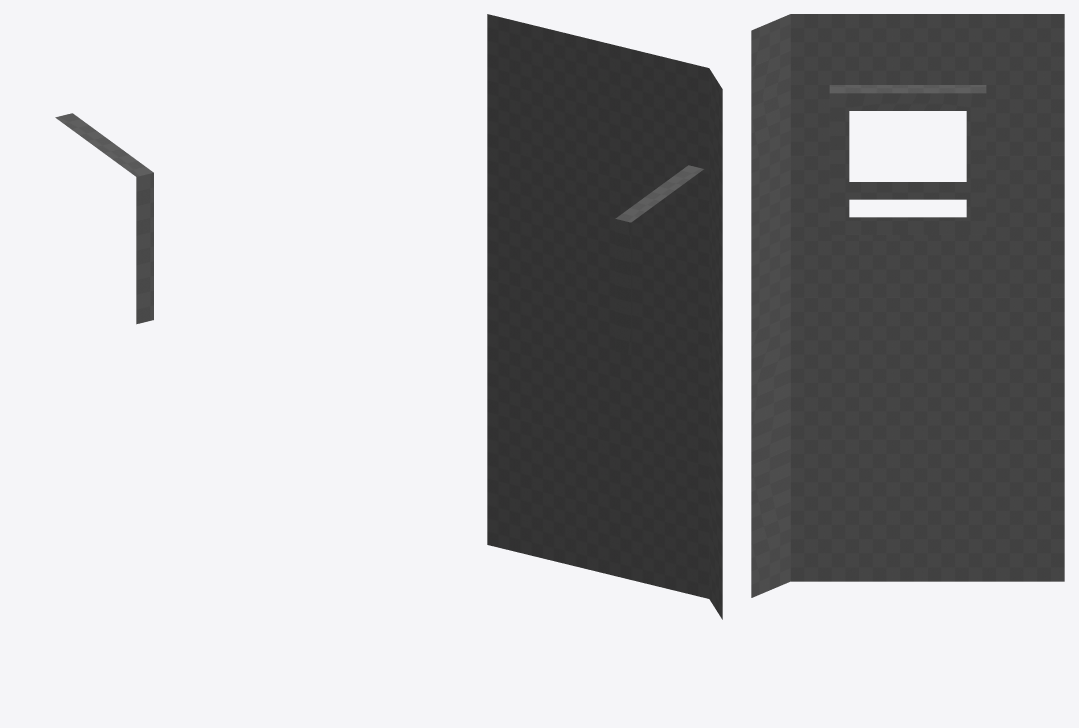
3 renders of one model, left to right at view 1: azimuth 30°, elevation 25°; view 2: azimuth 150°, elevation 25°; view 3: azimuth 270°, elevation 25°, orthographic. The views are drawn at different scales.
Parts seen in each view (by area): view 1: 1; view 2: 1; view 3: 1.
Part boxes in pixels (bbox=[...]): 1: bbox=[55, 113, 153, 324]; 1: bbox=[487, 14, 722, 619]; 1: bbox=[751, 14, 1064, 597].
Size of the model in its own units: 2 by 4 by 2.
2 materials, 2 textured.
